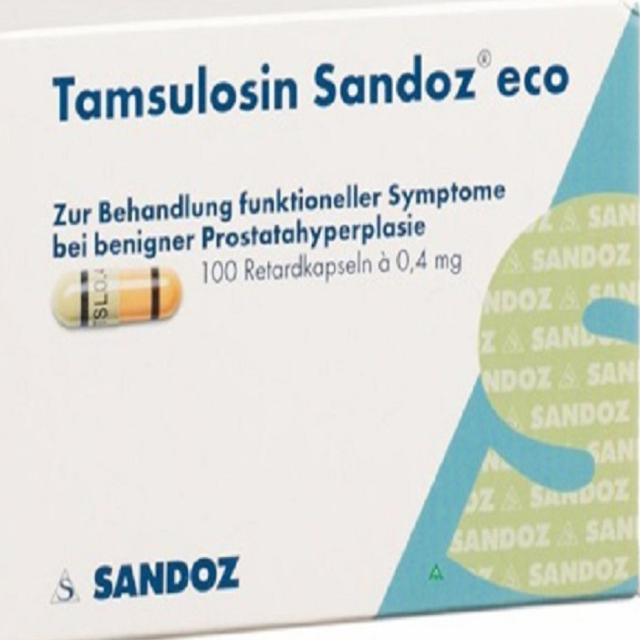drug-name: (47, 38, 580, 131)
